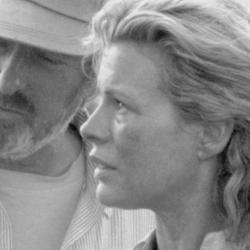face: (73, 1, 250, 220)
